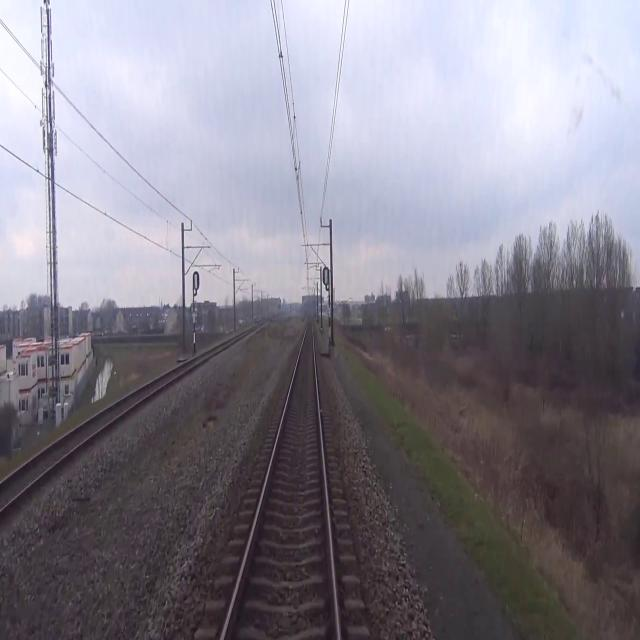rail-track: (225, 321, 335, 639), (0, 353, 208, 506)
